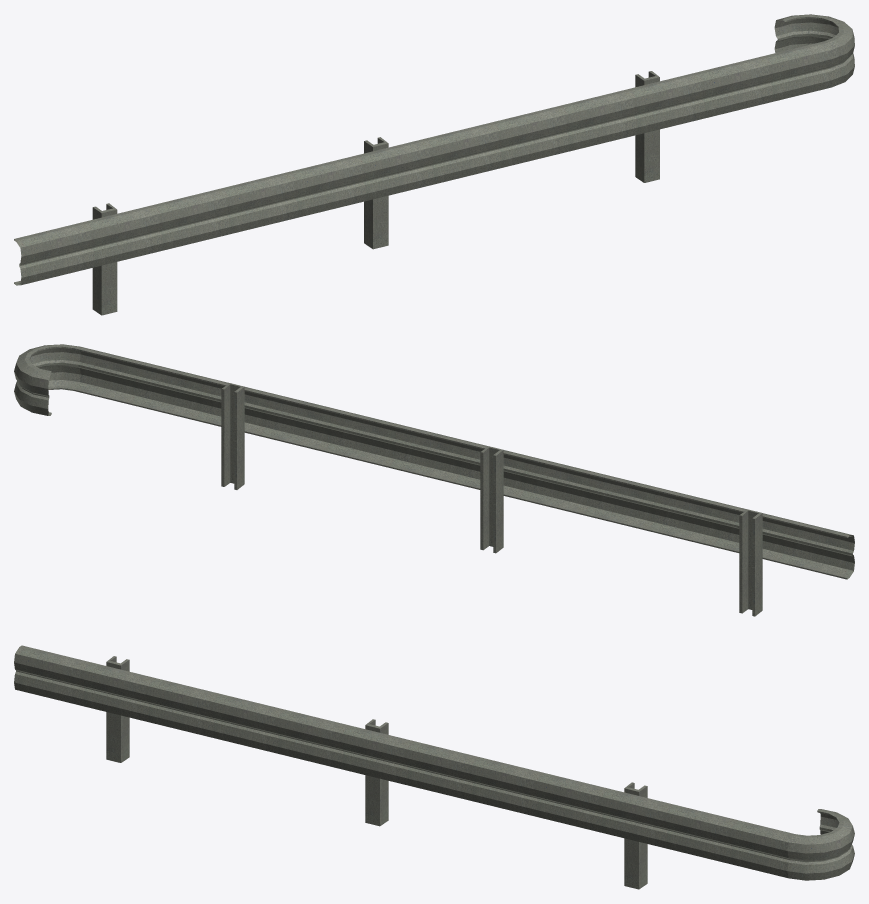
Rendered from CIV_WBarrier_Straight_003.fbx.
The picture shows the model from 3 angles, top to bottom: view 1: azimuth 30°, elevation 25°; view 2: azimuth 150°, elevation 25°; view 3: azimuth 330°, elevation 25°; orthographic projection. The views are drawn at different scales.
Visible parts, largest first — view 1: CIV_WBarrier_Straight_003; view 2: CIV_WBarrier_Straight_003; view 3: CIV_WBarrier_Straight_003.
Boxes of the visible parts, box(x1,y1,x2,y2) form: CIV_WBarrier_Straight_003: box(14, 14, 854, 315); CIV_WBarrier_Straight_003: box(14, 344, 854, 616); CIV_WBarrier_Straight_003: box(14, 645, 854, 889).
Bounding box in the file's own units: 627 × 72.71 × 60.18.
